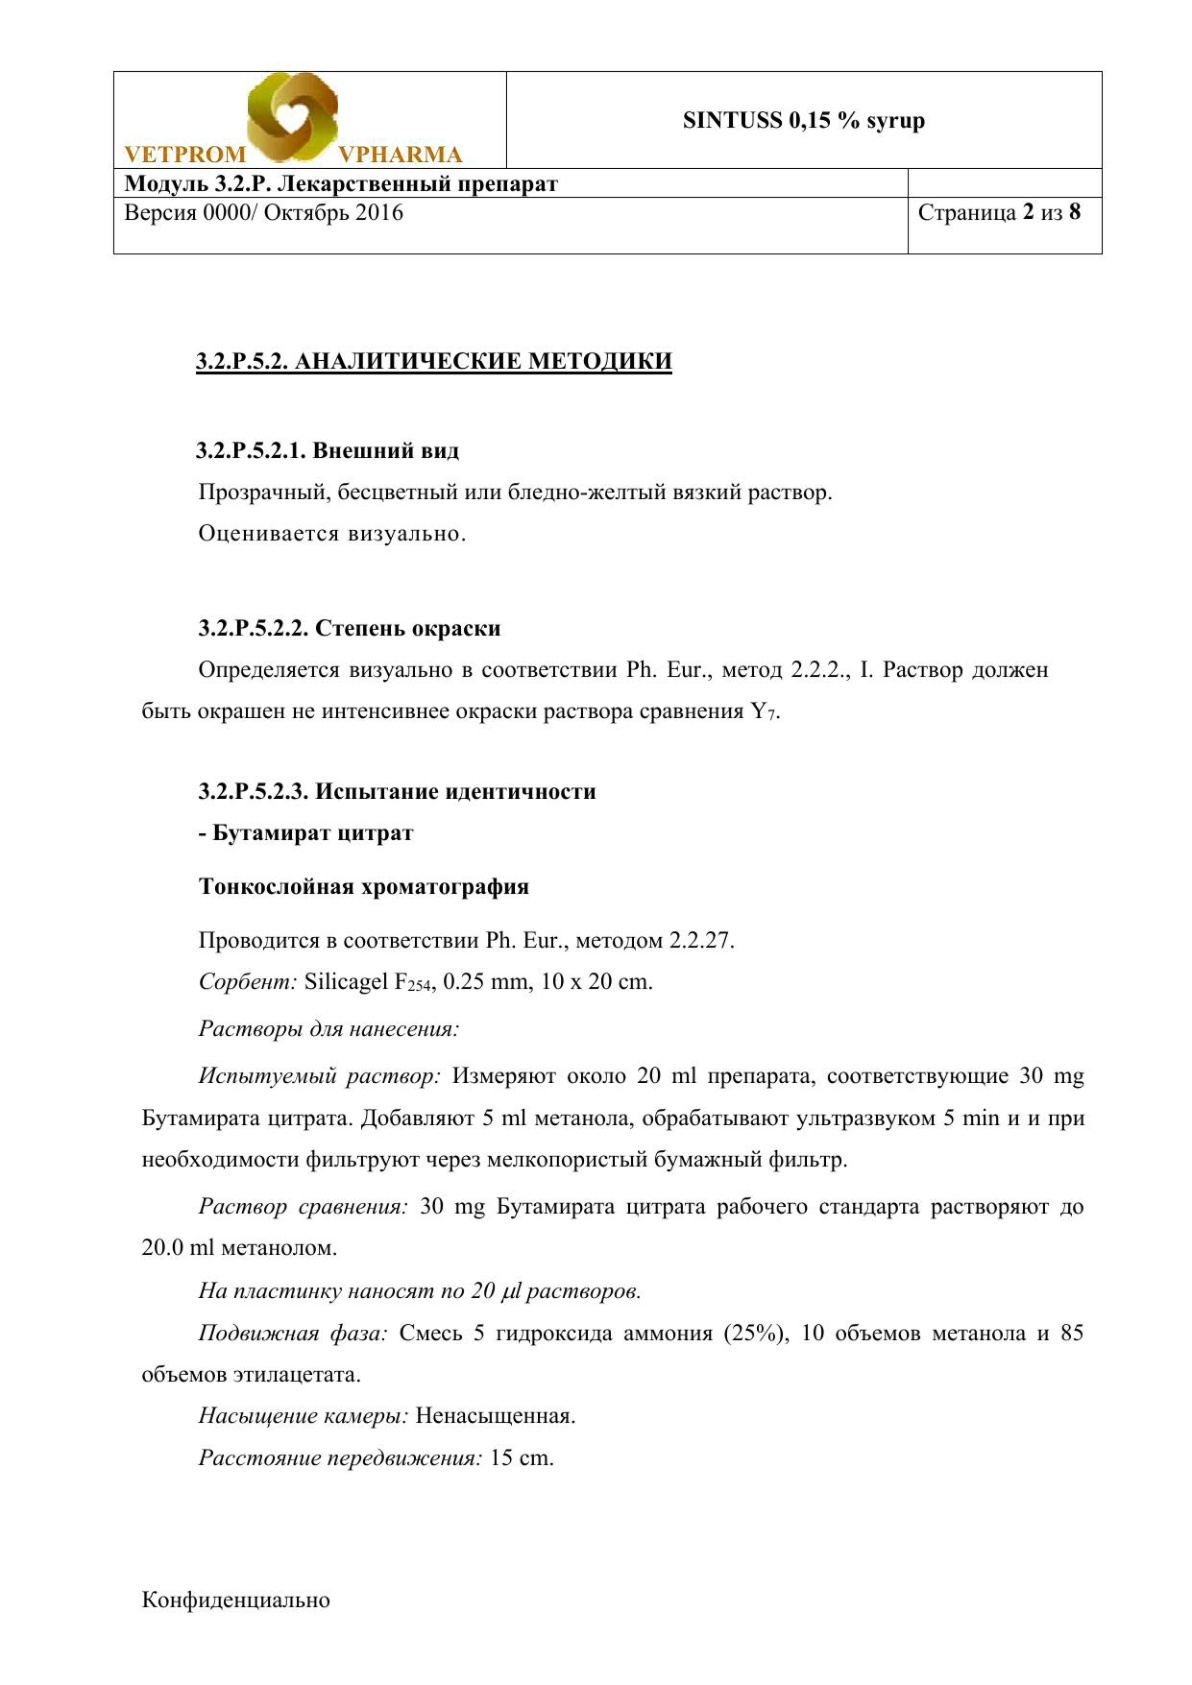merged_cells: (111, 71, 1103, 255)
